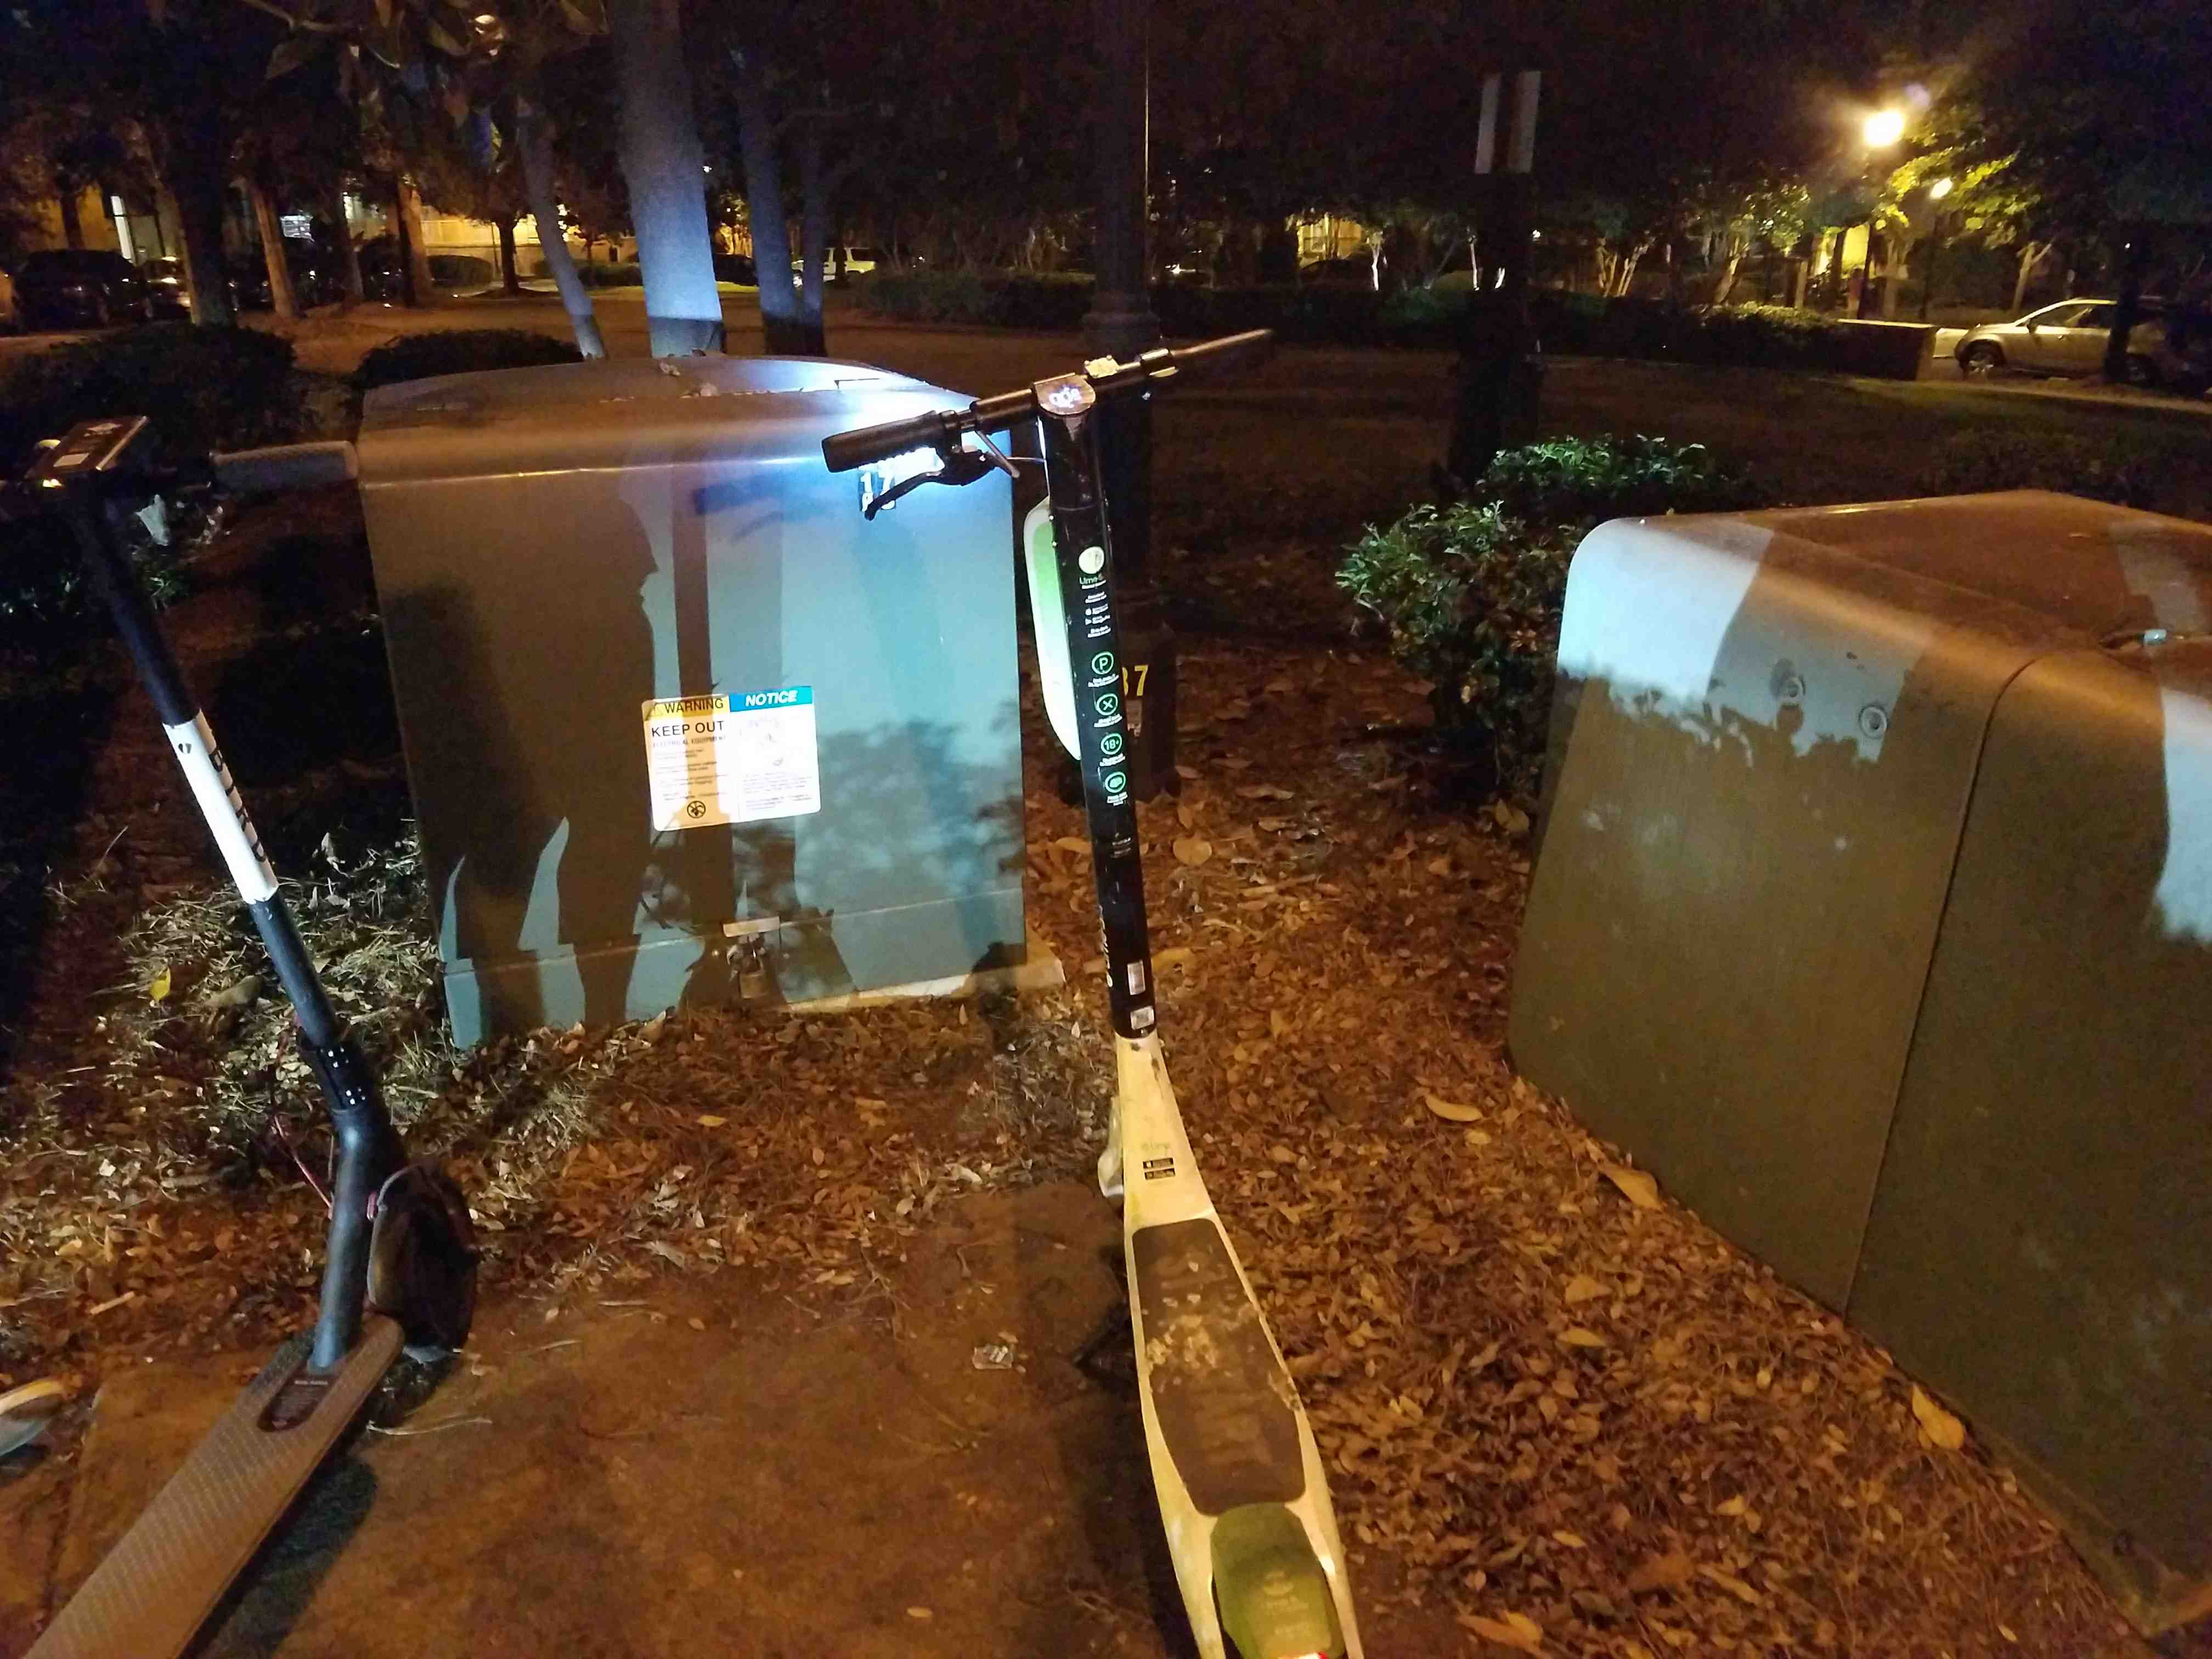scooter: (796, 263, 1477, 1649)
